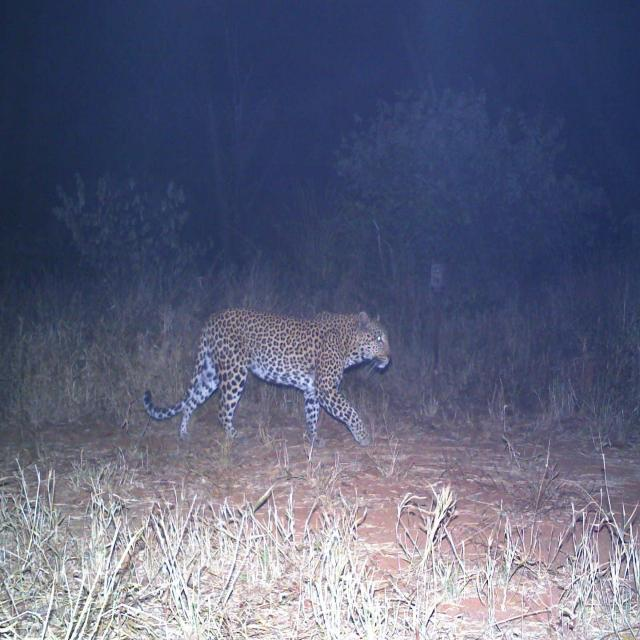Leopard: (135, 296, 392, 460)
